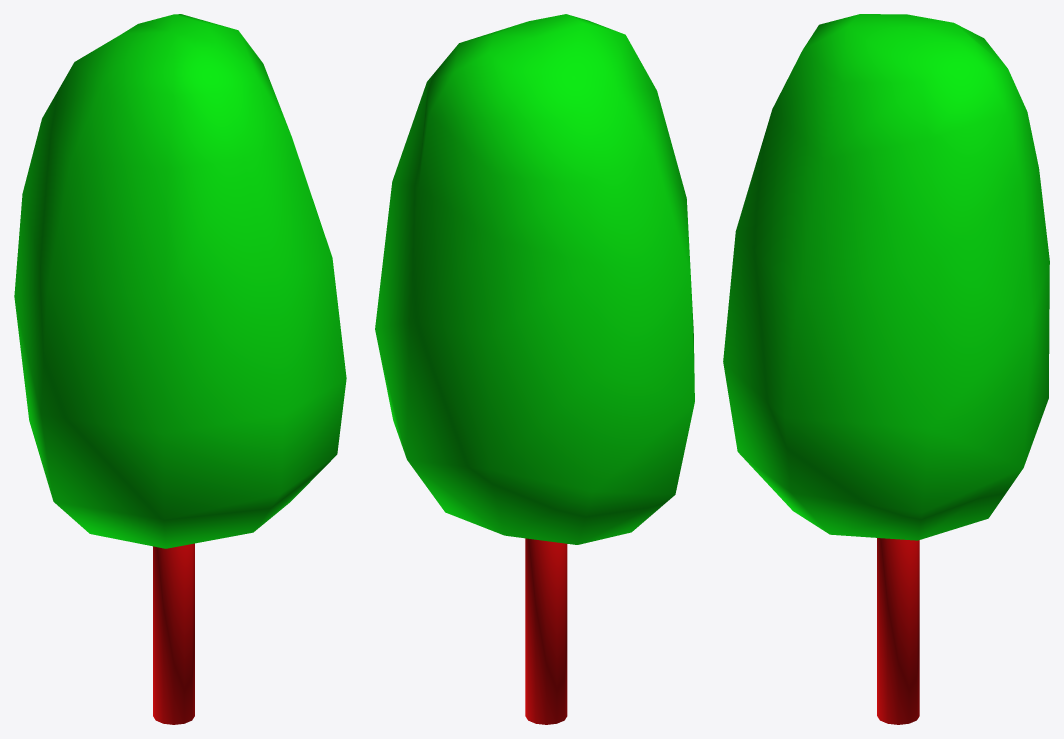
File: Tree_06.fbx
3 renders of one model, left to right at view 1: azimuth 30°, elevation 25°; view 2: azimuth 150°, elevation 25°; view 3: azimuth 270°, elevation 25°, orthographic.
Parts seen in each view (by area): view 1: Tree_06; view 2: Tree_06; view 3: Tree_06.
Boxes of the visible parts, x1,y1,x2,y2 form: Tree_06: (14, 14, 346, 724); Tree_06: (375, 14, 694, 724); Tree_06: (723, 14, 1049, 724).
Size of the model in its own units: 276 by 607 by 260.
